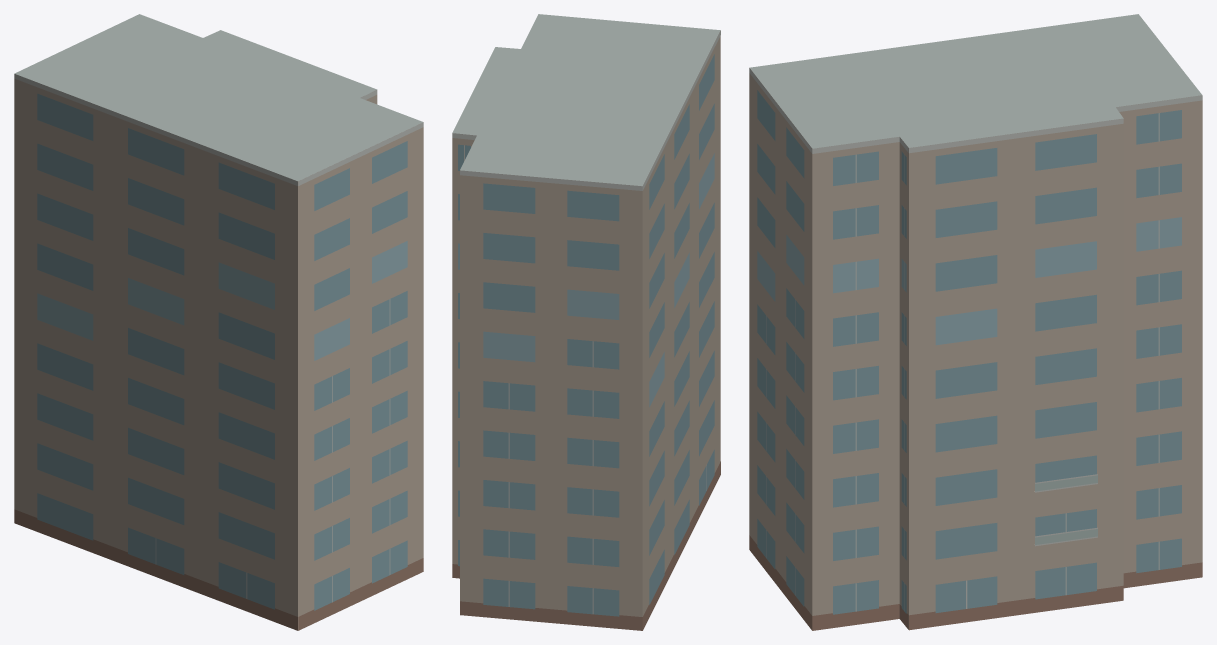
The model's file is survey-upis-32917477.glb.
3 views of the same model, side by side, from view 1: azimuth 30°, elevation 25°; view 2: azimuth 150°, elevation 25°; view 3: azimuth 270°, elevation 25° (orthographic). The views are drawn at different scales.
Visible parts, largest first — view 1: survey-upis-32917477.tmp; view 2: survey-upis-32917477.tmp; view 3: survey-upis-32917477.tmp.
Boxes of the visible parts, <box> form: survey-upis-32917477.tmp: <box>14,14,423,630</box>; survey-upis-32917477.tmp: <box>452,14,720,630</box>; survey-upis-32917477.tmp: <box>749,14,1202,630</box>.
Bounding box in the file's own units: 13.44 × 22.4 × 19.09.
